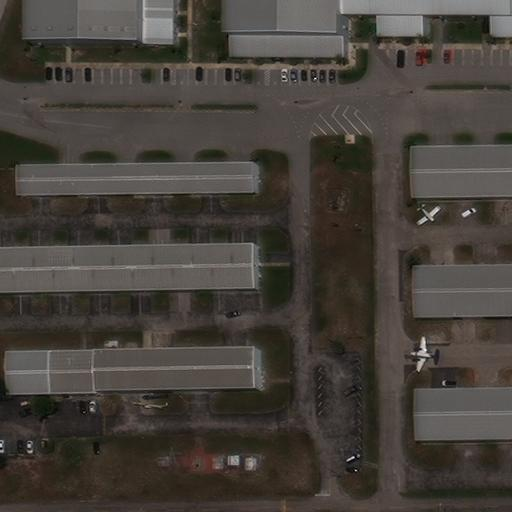Small Civil Transport: (410, 335, 439, 372), (418, 206, 441, 226)
